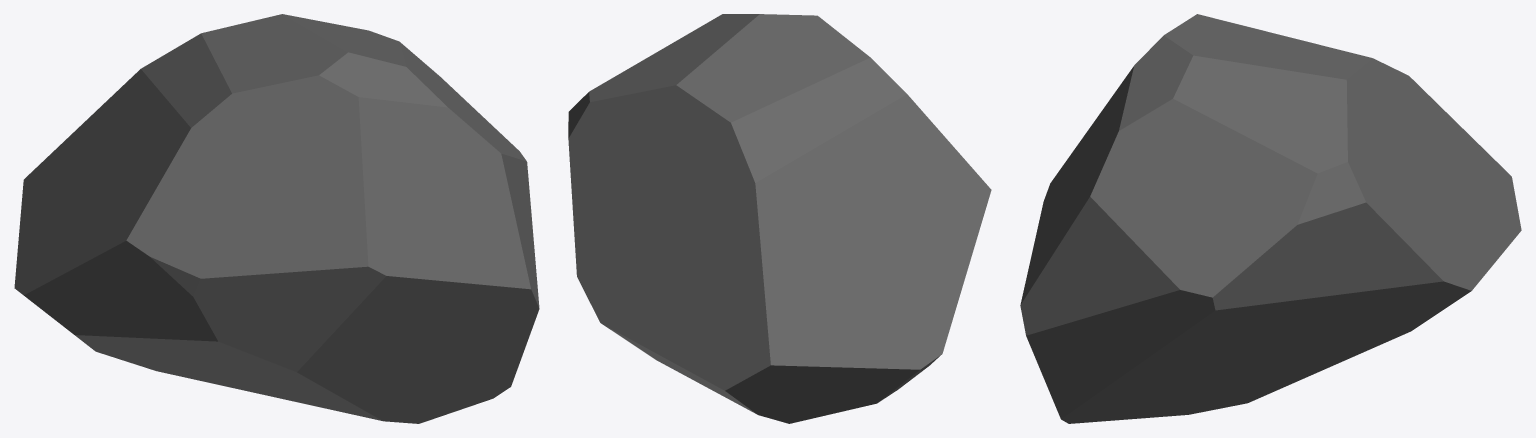
The model's file is RockA.fbx.
The picture shows the model from 3 angles, left to right: view 1: azimuth 30°, elevation 25°; view 2: azimuth 150°, elevation 25°; view 3: azimuth 270°, elevation 25°; orthographic projection. The views are drawn at different scales.
Parts seen in each view (by area): view 1: Rock1; view 2: Rock1; view 3: Rock1.
Part boxes in pixels (x1,y1,x2,y2): Rock1: (14, 14, 539, 423); Rock1: (568, 14, 991, 423); Rock1: (1020, 14, 1521, 423).
Bounding box in the file's own units: 58.78 × 44.82 × 57.63.
Materials: 1 (1 with a texture image).
